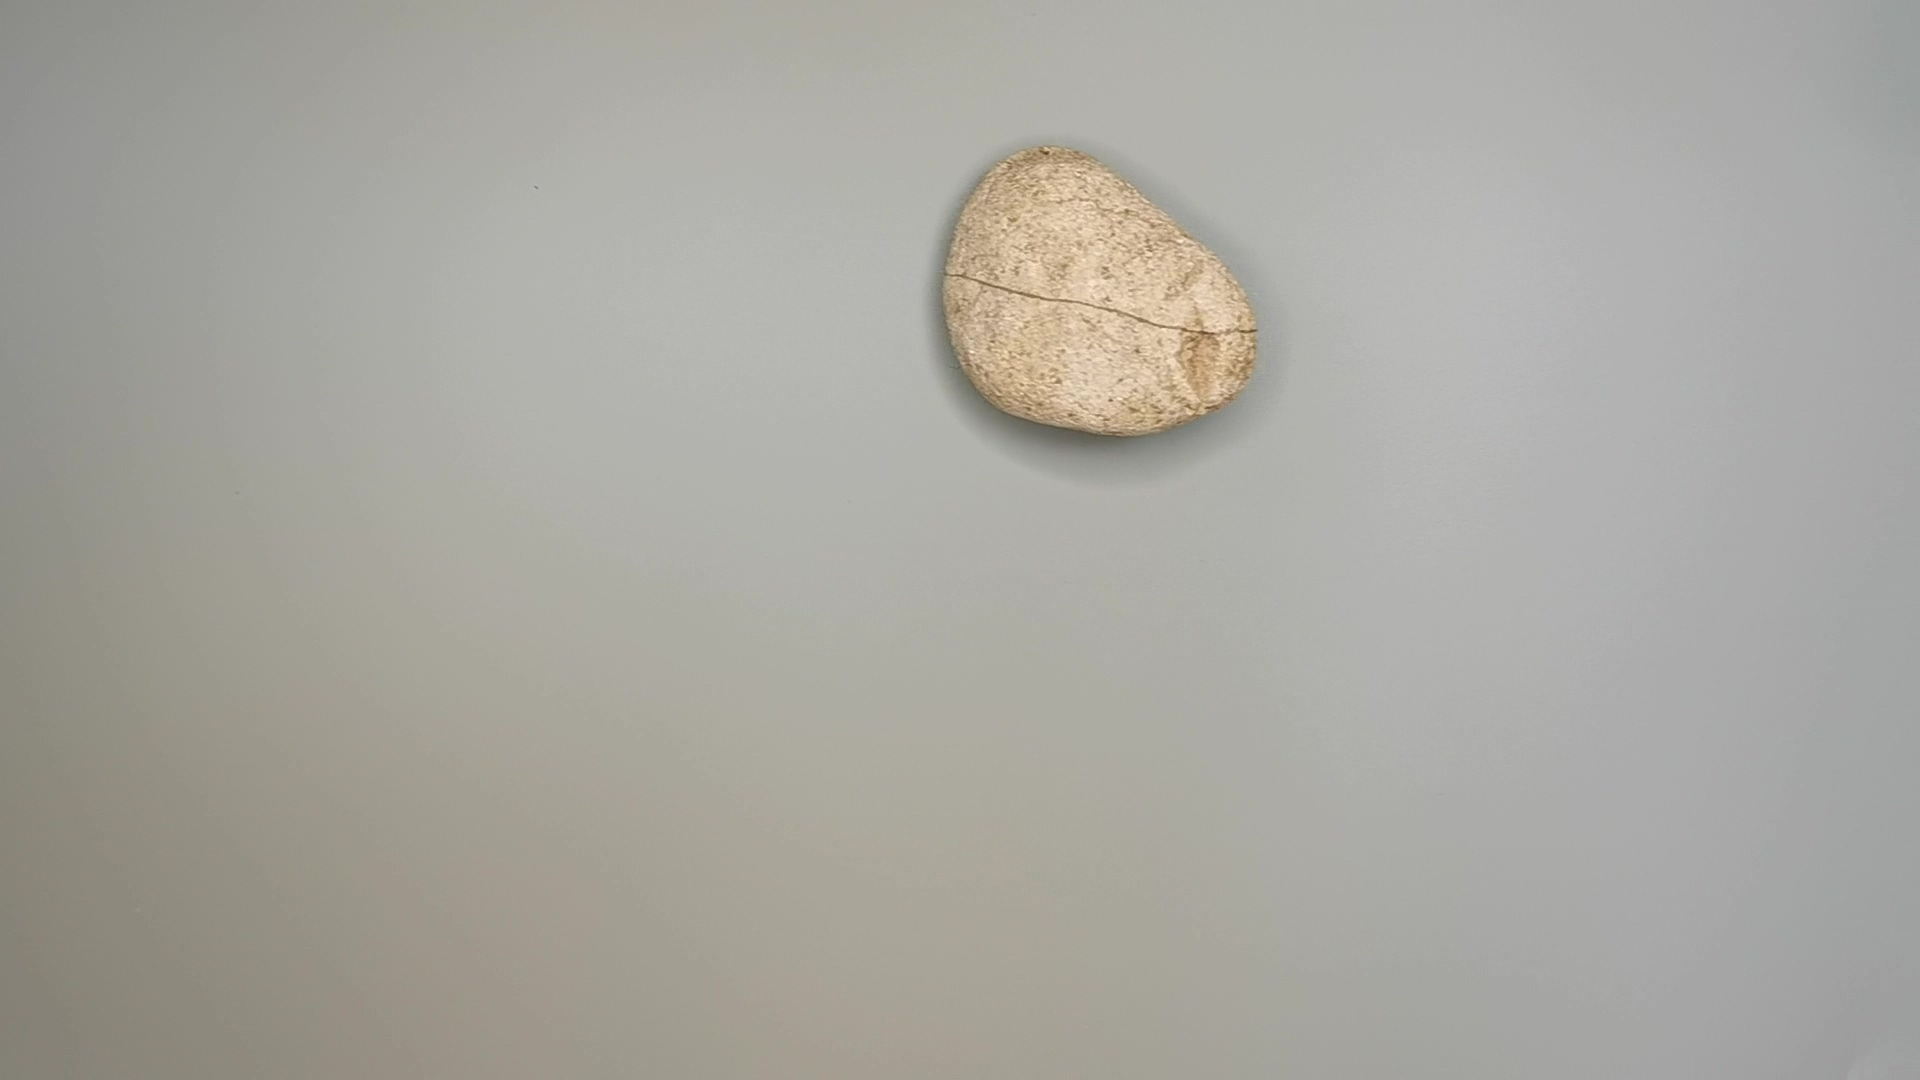ceramic: (928, 146, 1263, 440)
